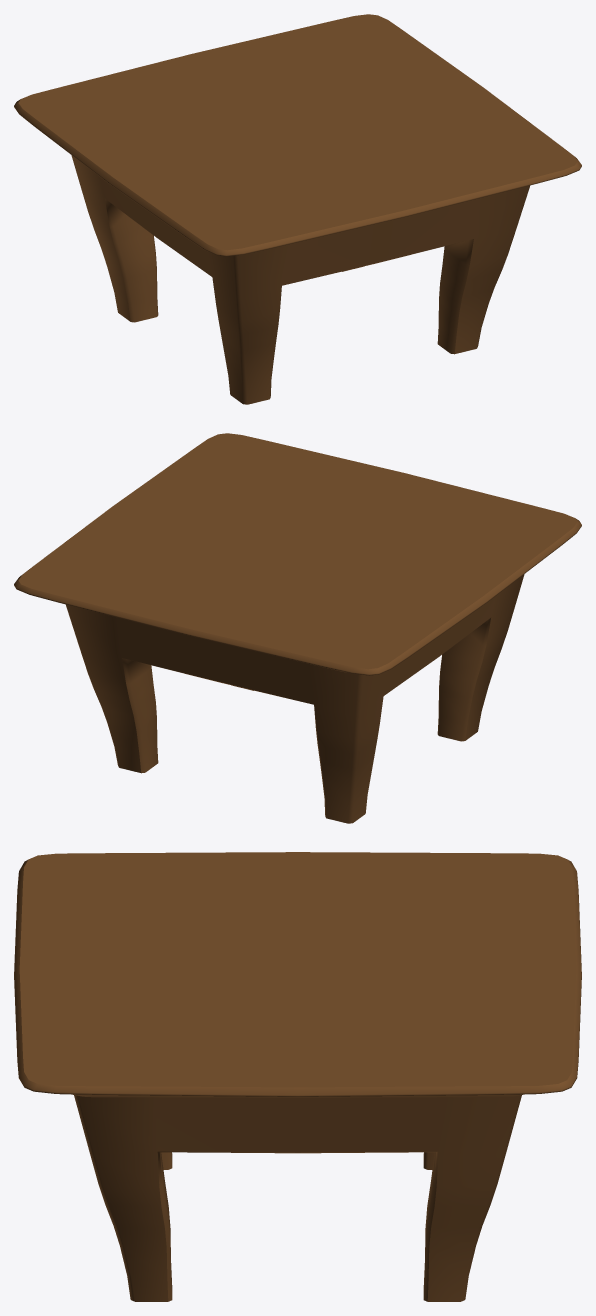
File: 051_table.glb
3 renders of one model, top to bottom at view 1: azimuth 30°, elevation 25°; view 2: azimuth 150°, elevation 25°; view 3: azimuth 270°, elevation 25°, orthographic. The views are drawn at different scales.
Visible parts, largest first — view 1: Plane.001, Plane; view 2: Plane.001, Plane; view 3: Plane.001, Plane.
Part boxes in pixels (x1=…): Plane.001: x1=14, y1=14, x2=581, y2=256; Plane: x1=71, y1=155, x2=530, y2=404; Plane.001: x1=14, y1=433, x2=581, y2=675; Plane: x1=65, y1=574, x2=524, y2=823; Plane.001: x1=14, y1=852, x2=581, y2=1097; Plane: x1=74, y1=1095, x2=521, y2=1301.
Bounding box in the file's own units: 2.25 × 1.13 × 2.25.
